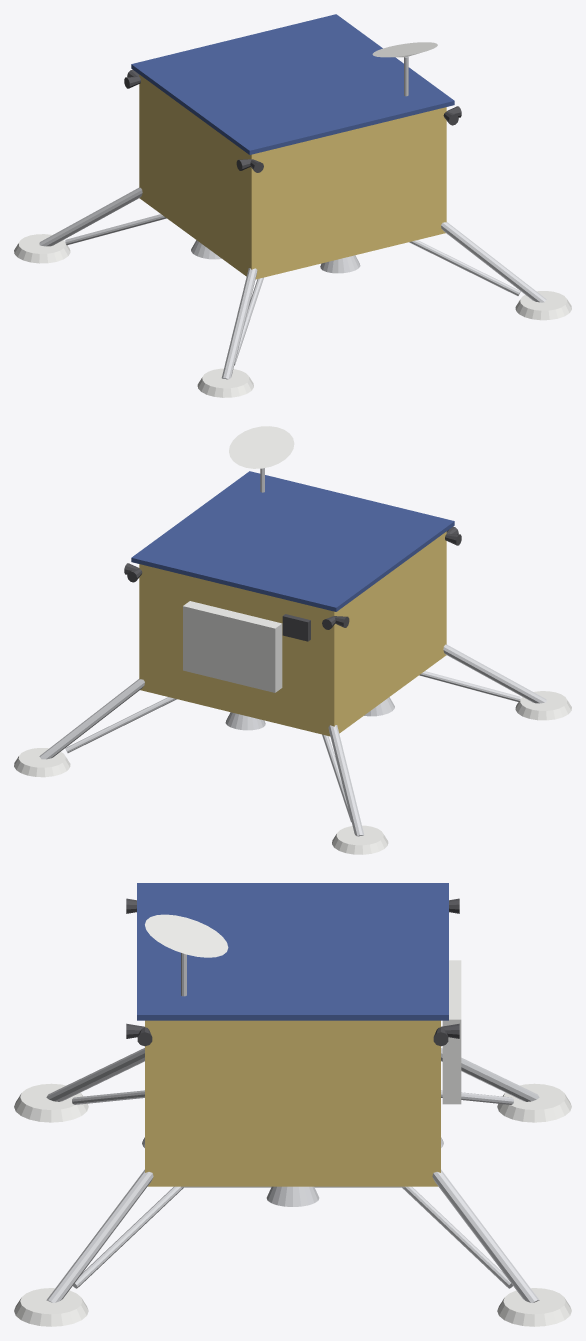
Rendered from lander.glb.
3 renders of one model, top to bottom at view 1: azimuth 30°, elevation 25°; view 2: azimuth 150°, elevation 25°; view 3: azimuth 270°, elevation 25°, orthographic. The views are drawn at different scales.
Visible parts, largest first — view 1: lander; view 2: lander; view 3: lander.
Part boxes in pixels (<box>): lander: <box>14,14,571,397</box>; lander: <box>14,426,571,854</box>; lander: <box>14,883,571,1326</box>.
Size of the model in its own units: 3.58 by 2.34 by 3.58.
